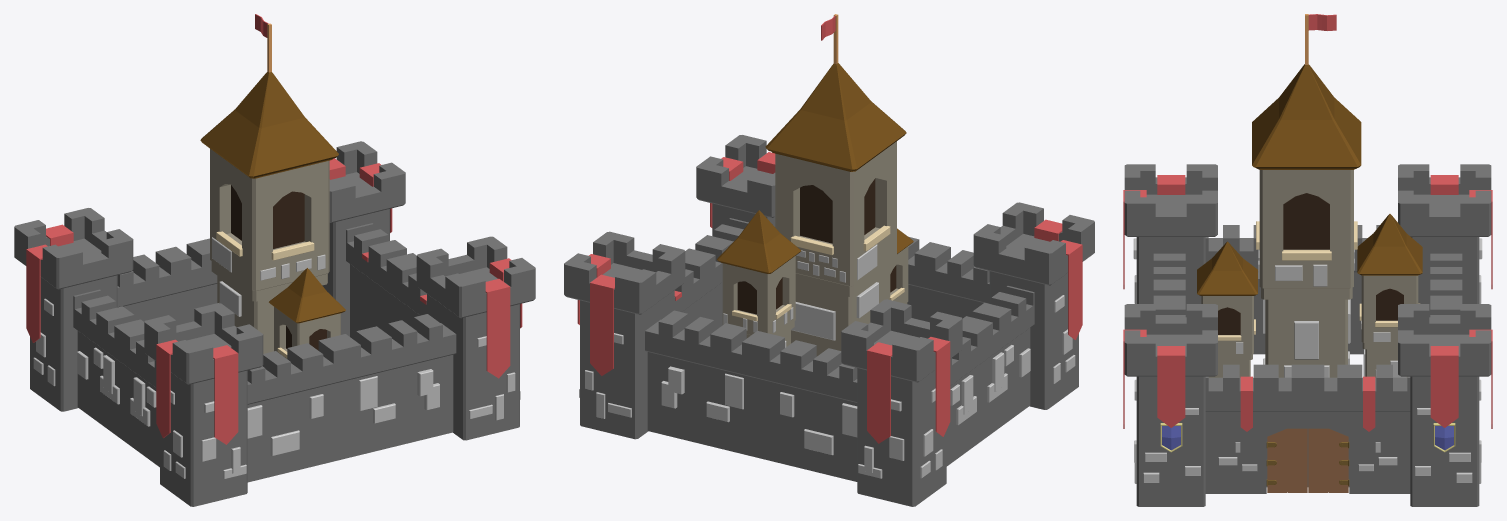
Rendered from blocos_02.fbx.
The picture shows the model from 3 angles, left to right: view 1: azimuth 30°, elevation 25°; view 2: azimuth 150°, elevation 25°; view 3: azimuth 270°, elevation 25°; orthographic projection. The views are drawn at different scales.
Visible parts, largest first — view 1: Castelo; view 2: Castelo; view 3: Castelo.
Boxes of the visible parts, box(x1,y1,x2,y2) form: Castelo: box(14, 14, 535, 506); Castelo: box(564, 14, 1094, 506); Castelo: box(1123, 14, 1492, 506).
Bounding box in the file's own units: 1896 × 1978 × 1636.
